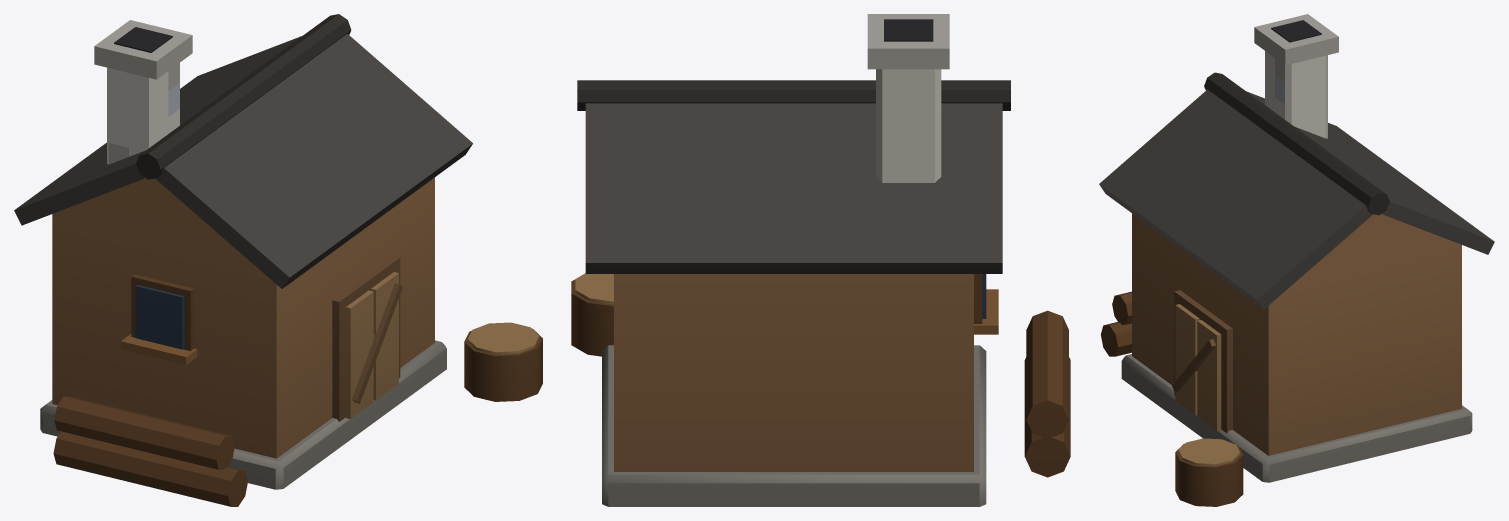
File: building_2.glb
The picture shows the model from 3 angles, left to right: view 1: azimuth 30°, elevation 25°; view 2: azimuth 150°, elevation 25°; view 3: azimuth 270°, elevation 25°; orthographic projection. The views are drawn at different scales.
Visible parts, largest first — view 1: building_2; view 2: building_2; view 3: building_2.
Boxes of the visible parts, bbox=[...] form: building_2: bbox=[14, 14, 542, 506]; building_2: bbox=[571, 14, 1070, 506]; building_2: bbox=[1099, 14, 1494, 506].
Bounding box in the file's own units: 0.737 × 0.59 × 0.6381.
